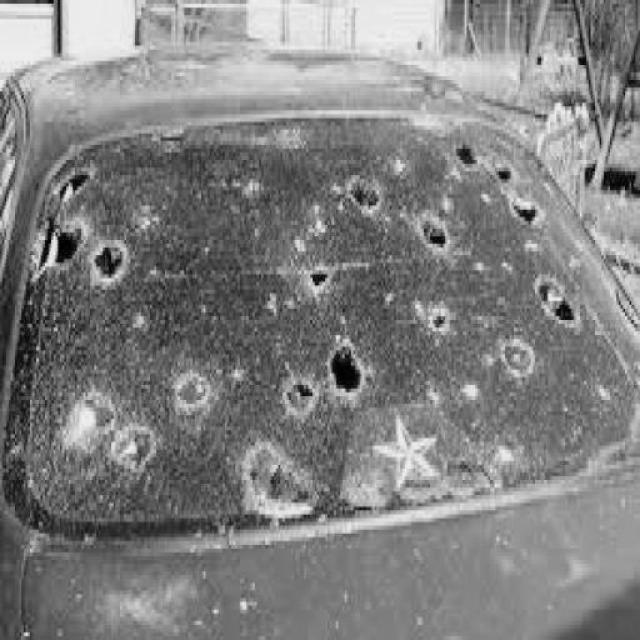car damage: (2, 108, 640, 553)
